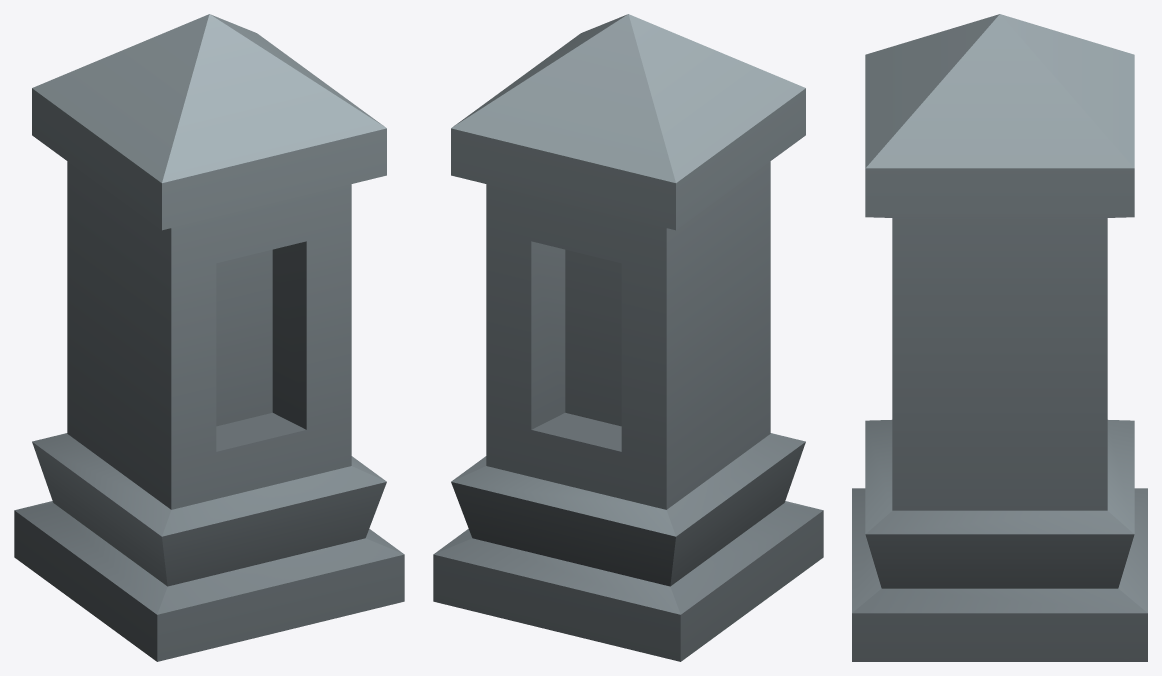
Rendered from shrine.glb.
The picture shows the model from 3 angles, left to right: view 1: azimuth 30°, elevation 25°; view 2: azimuth 150°, elevation 25°; view 3: azimuth 270°, elevation 25°; orthographic projection. The views are drawn at different scales.
Parts seen in each view (by area): view 1: shrine; view 2: shrine; view 3: shrine.
Part boxes in pixels (<box>): shrine: <box>14,14,404,661</box>; shrine: <box>433,14,823,661</box>; shrine: <box>852,14,1147,661</box>.
Bounding box in the file's own units: 1.1 × 2.4 × 1.1.
Materials: 1 (1 with a texture image).
